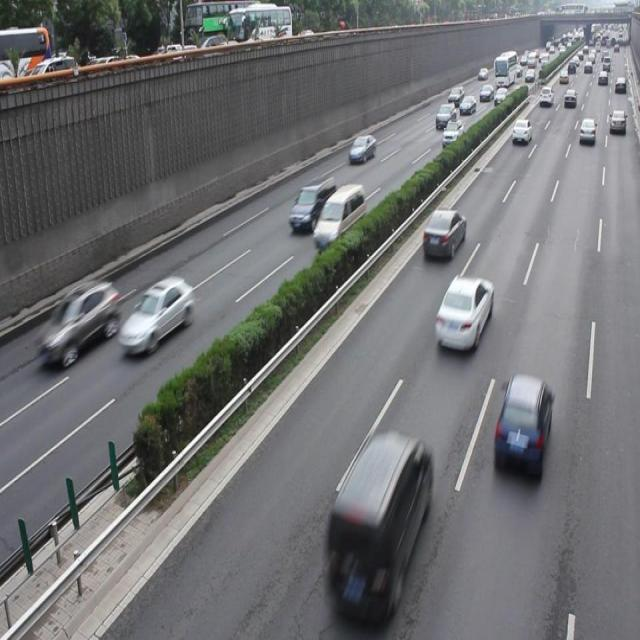car: (41, 276, 119, 368), (491, 373, 550, 479), (119, 275, 195, 356), (432, 272, 493, 350), (421, 206, 466, 259), (348, 132, 376, 164)
truck: (323, 432, 430, 610), (312, 182, 366, 247), (289, 176, 336, 231)
